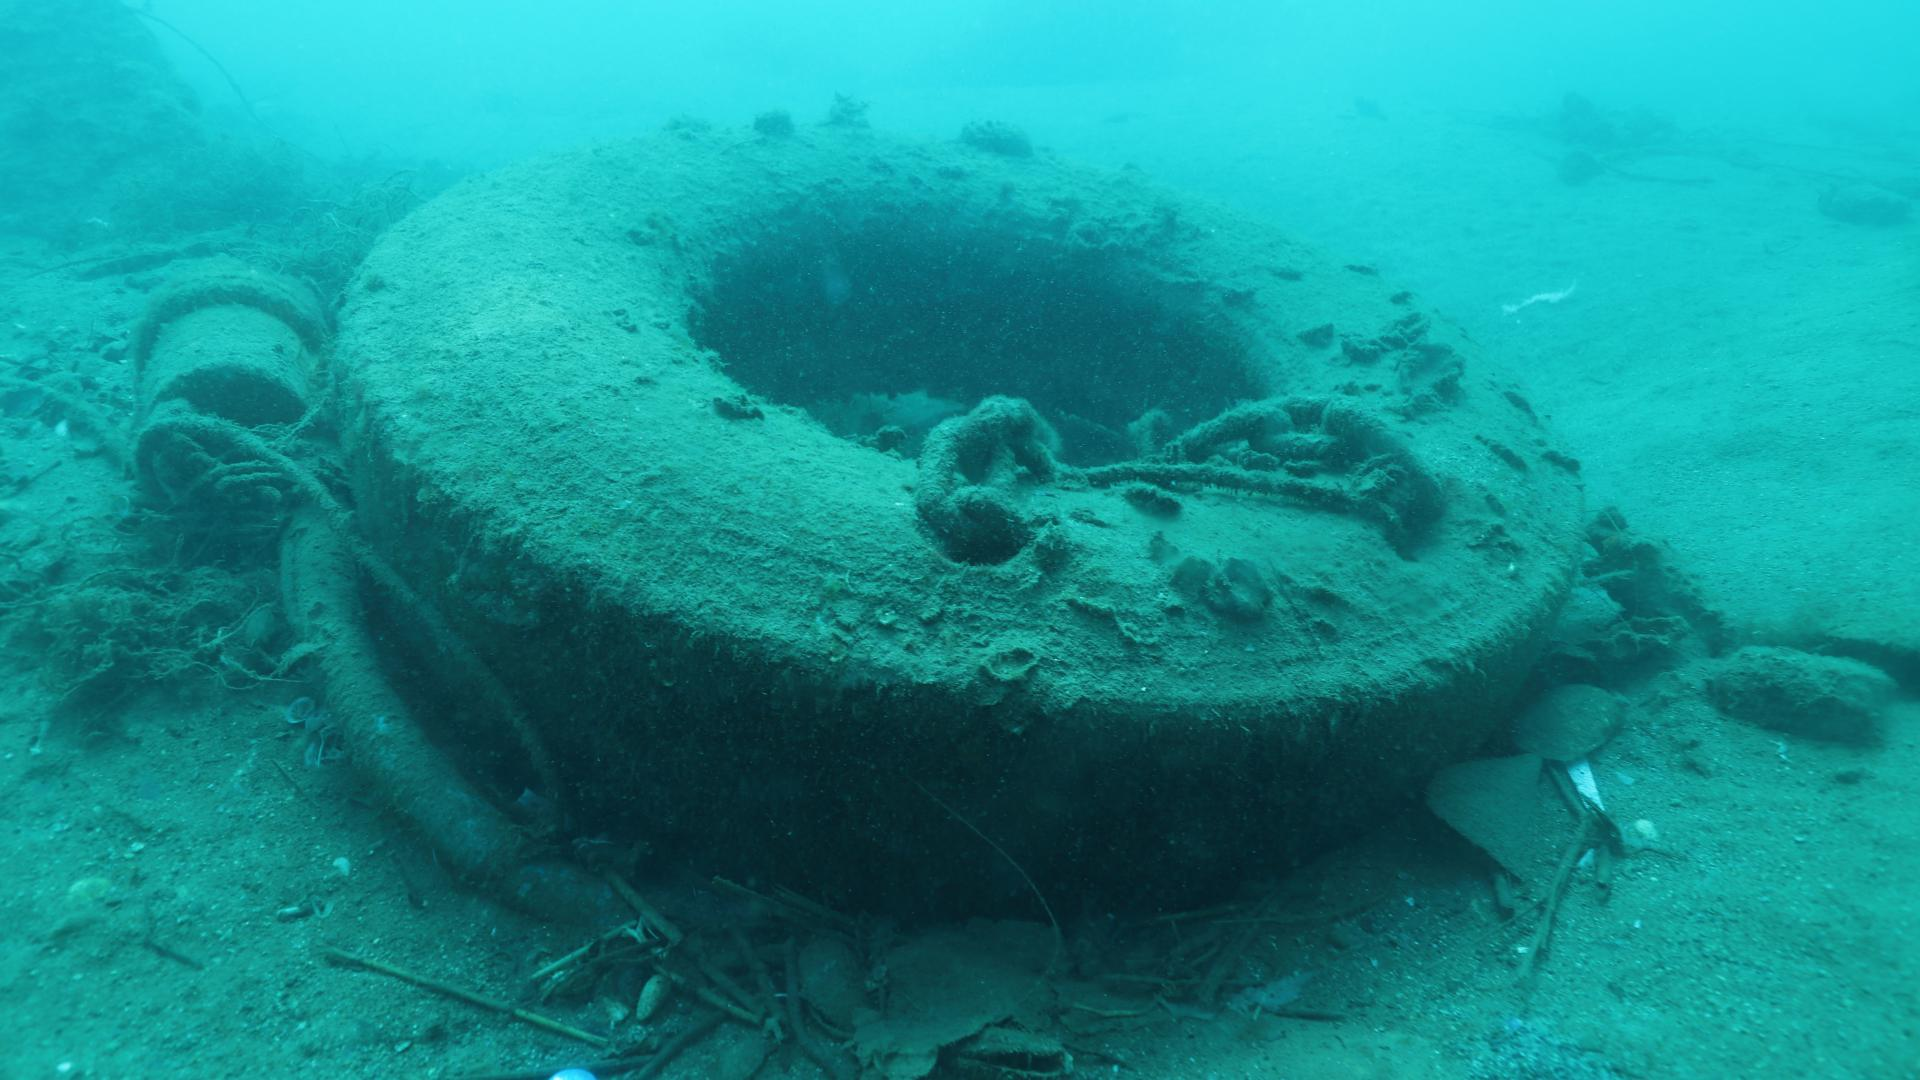tire: (327, 125, 1584, 909)
